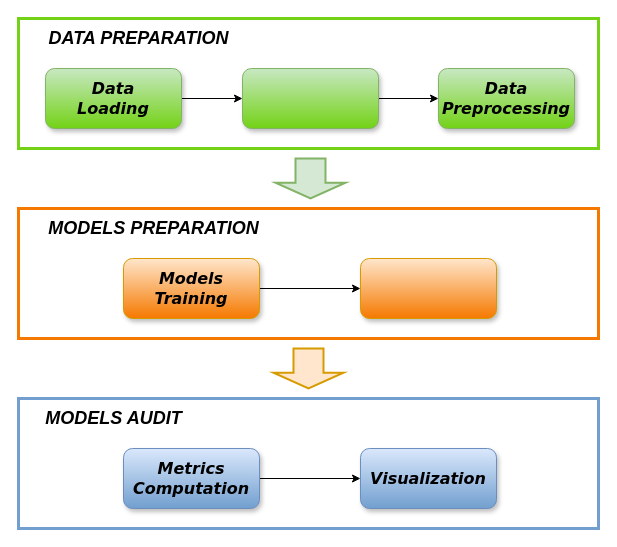
This 617x547 diagram has some shape labels left out. Here are the shapes that lost their labels. From the top down, the centre of each, then its label:
At (x=311, y=100): "Error Injection".
At (x=429, y=290): "Models Tuning".
